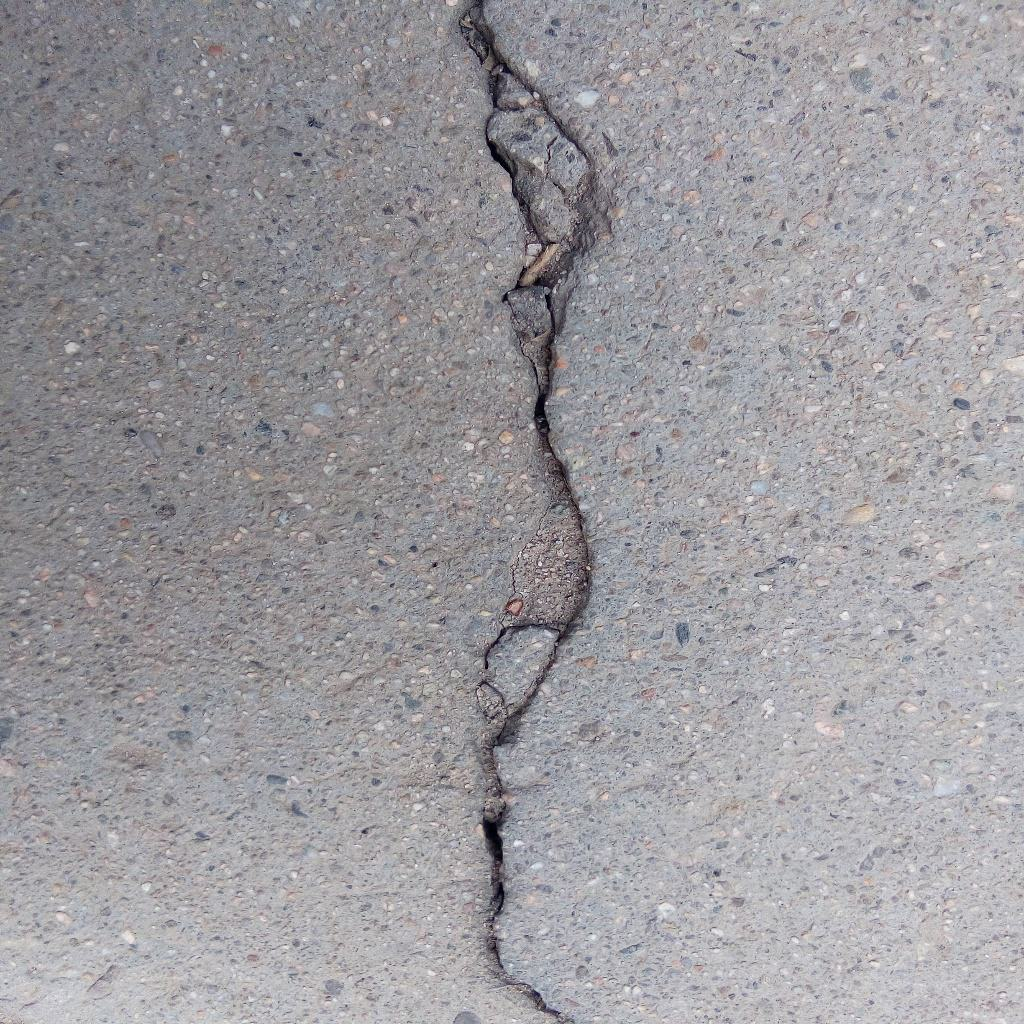Crack: (458, 1, 610, 1024)
